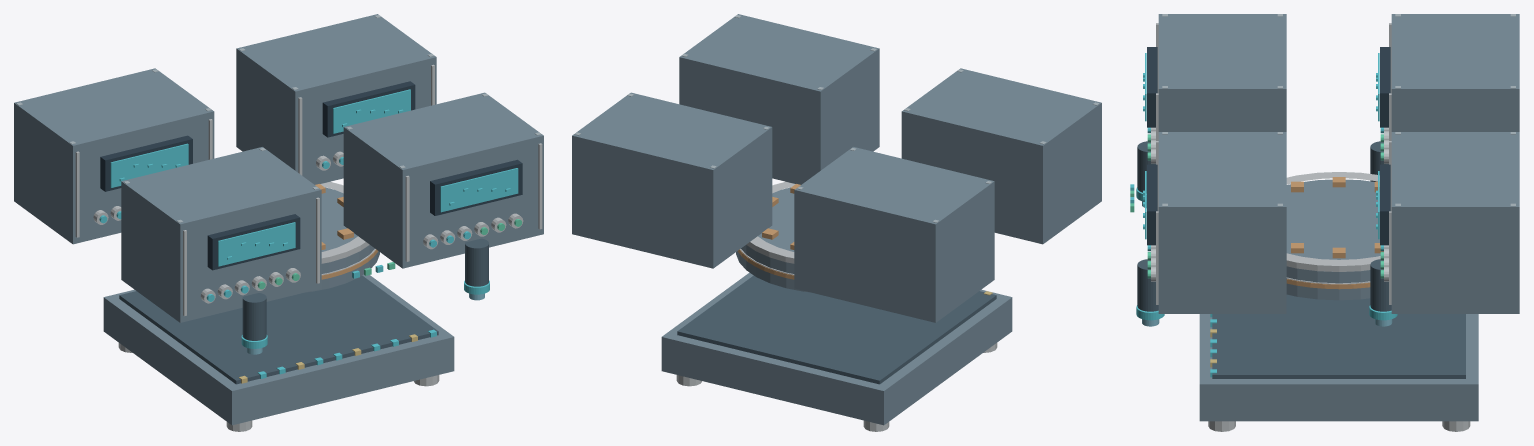
The model's file is 13_L79_HighPrecisionWaferPreAligner.glb.
The picture shows the model from 3 angles, left to right: view 1: azimuth 30°, elevation 25°; view 2: azimuth 150°, elevation 25°; view 3: azimuth 270°, elevation 25°; orthographic projection. The views are drawn at different scales.
Visible parts, largest first — view 1: HighPrecisionWaferPreAligner_Node_0107, HighPrecisionWaferPreAligner_Node_0136, HighPrecisionWaferPreAligner_Node_0078, HighPrecisionWaferPreAligner_Node_0049, HighPrecisionWaferPreAligner_Node_0000, HighPrecisionWaferPreAligner_Node_0001, HighPrecisionWaferPreAligner_Node_0165, HighPrecisionWaferPreAligner_Node_0118, HighPrecisionWaferPreAligner_Node_0147, HighPrecisionWaferPreAligner_Node_0089, HighPrecisionWaferPreAligner_Node_0060, HighPrecisionWaferPreAligner_Node_0146 (+6 smaller); view 2: HighPrecisionWaferPreAligner_Node_0078, HighPrecisionWaferPreAligner_Node_0049, HighPrecisionWaferPreAligner_Node_0136, HighPrecisionWaferPreAligner_Node_0107, HighPrecisionWaferPreAligner_Node_0001, HighPrecisionWaferPreAligner_Node_0000, HighPrecisionWaferPreAligner_Node_0165, HighPrecisionWaferPreAligner_Node_0166; view 3: HighPrecisionWaferPreAligner_Node_0049, HighPrecisionWaferPreAligner_Node_0107, HighPrecisionWaferPreAligner_Node_0001, HighPrecisionWaferPreAligner_Node_0078, HighPrecisionWaferPreAligner_Node_0136, HighPrecisionWaferPreAligner_Node_0000, HighPrecisionWaferPreAligner_Node_0165, HighPrecisionWaferPreAligner_Node_0166, HighPrecisionWaferPreAligner_Node_0059, HighPrecisionWaferPreAligner_Node_0117, HighPrecisionWaferPreAligner_Node_0056, HighPrecisionWaferPreAligner_Node_0114 (+5 smaller).
Part boxes in pixels (box(x1,y1,x2,y2)): HighPrecisionWaferPreAligner_Node_0107: box(343, 92, 543, 268); HighPrecisionWaferPreAligner_Node_0136: box(121, 147, 321, 322); HighPrecisionWaferPreAligner_Node_0078: box(14, 68, 214, 244); HighPrecisionWaferPreAligner_Node_0049: box(236, 14, 436, 184); HighPrecisionWaferPreAligner_Node_0000: box(103, 274, 454, 425); HighPrecisionWaferPreAligner_Node_0001: box(119, 275, 438, 384); HighPrecisionWaferPreAligner_Node_0165: box(307, 187, 379, 292); HighPrecisionWaferPreAligner_Node_0118: box(440, 168, 518, 212); HighPrecisionWaferPreAligner_Node_0147: box(218, 222, 295, 266); HighPrecisionWaferPreAligner_Node_0089: box(110, 143, 188, 187); HighPrecisionWaferPreAligner_Node_0060: box(333, 89, 410, 133); HighPrecisionWaferPreAligner_Node_0146: box(207, 214, 300, 270); HighPrecisionWaferPreAligner_Node_0078: box(794, 147, 994, 322); HighPrecisionWaferPreAligner_Node_0049: box(572, 92, 772, 268); HighPrecisionWaferPreAligner_Node_0136: box(901, 68, 1101, 244); HighPrecisionWaferPreAligner_Node_0107: box(679, 14, 879, 184); HighPrecisionWaferPreAligner_Node_0001: box(677, 275, 996, 384); HighPrecisionWaferPreAligner_Node_0000: box(661, 272, 1012, 425); HighPrecisionWaferPreAligner_Node_0165: box(736, 187, 808, 292); HighPrecisionWaferPreAligner_Node_0166: box(746, 181, 795, 263); HighPrecisionWaferPreAligner_Node_0049: box(1391, 132, 1519, 313); HighPrecisionWaferPreAligner_Node_0107: box(1158, 132, 1286, 313); HighPrecisionWaferPreAligner_Node_0001: box(1212, 294, 1465, 378); HighPrecisionWaferPreAligner_Node_0078: box(1391, 14, 1519, 131); HighPrecisionWaferPreAligner_Node_0136: box(1158, 14, 1286, 131); HighPrecisionWaferPreAligner_Node_0000: box(1199, 314, 1478, 421); HighPrecisionWaferPreAligner_Node_0165: box(1286, 179, 1380, 300); HighPrecisionWaferPreAligner_Node_0166: box(1286, 172, 1380, 271); HighPrecisionWaferPreAligner_Node_0059: box(1380, 164, 1390, 245); HighPrecisionWaferPreAligner_Node_0117: box(1147, 164, 1157, 245); HighPrecisionWaferPreAligner_Node_0056: box(1370, 259, 1391, 311); HighPrecisionWaferPreAligner_Node_0114: box(1137, 259, 1158, 311).
Size of the model in its own units: 2.78 by 1.79 by 2.37.
